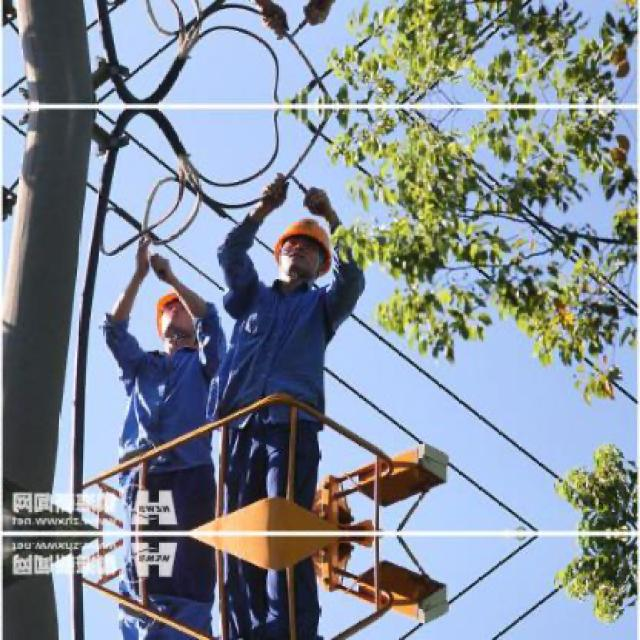con casco: (259, 184, 366, 332), (151, 274, 232, 377)
